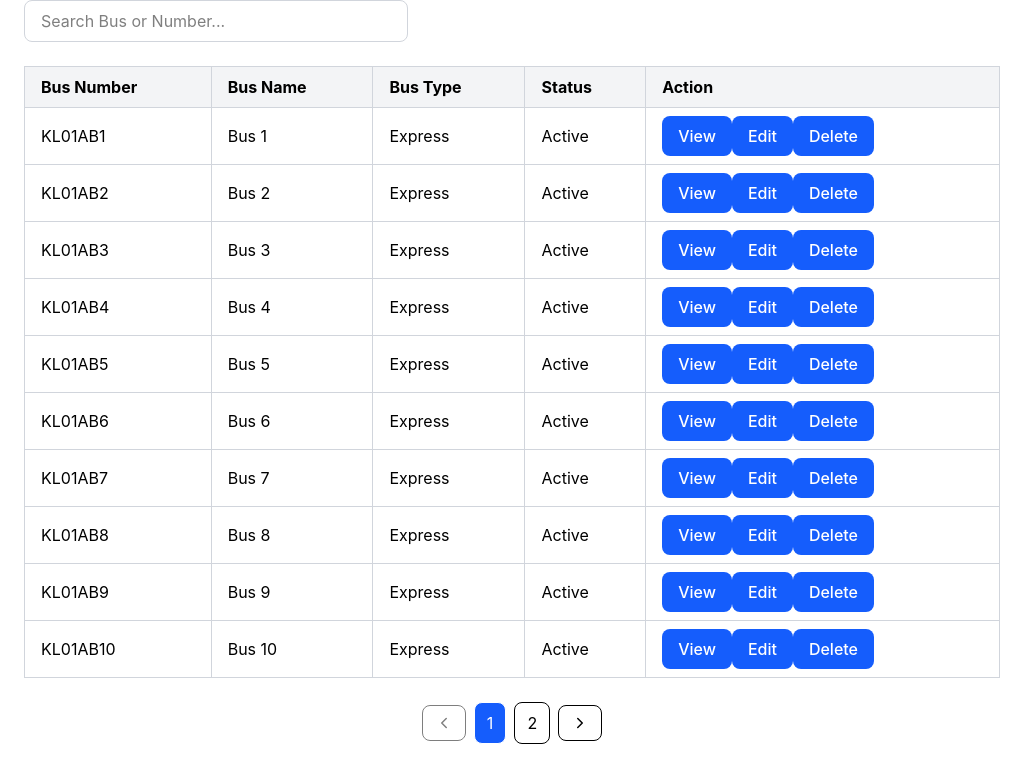
Test case: BusList - step 1 › should display next page buses when Next button is clicked
(page scrolled)
Expected: the text "KL01AB1" is shown, [24, 108, 211, 164]
Expected: the text "KL01AB11" is not shown
Click the button named "next" at (580, 723), box [558, 705, 602, 741]
(page scrolled)
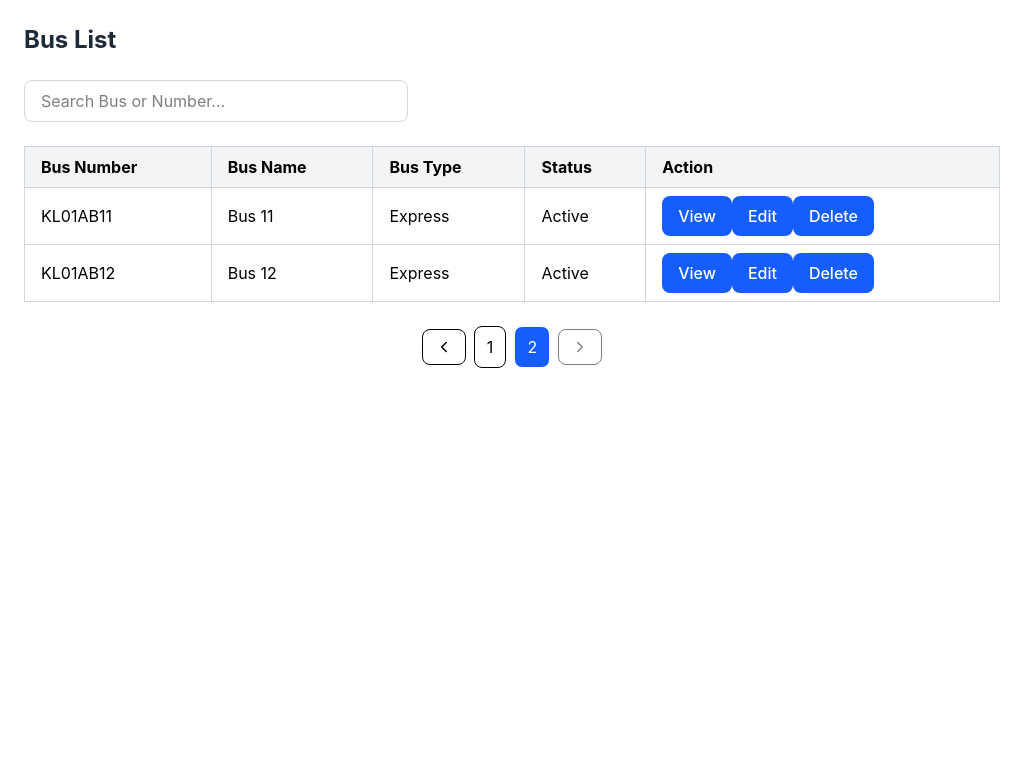
Expected: the text "KL01AB11" is shown, [24, 188, 211, 244]
Expected: the text "KL01AB12" is shown, [24, 244, 211, 302]
